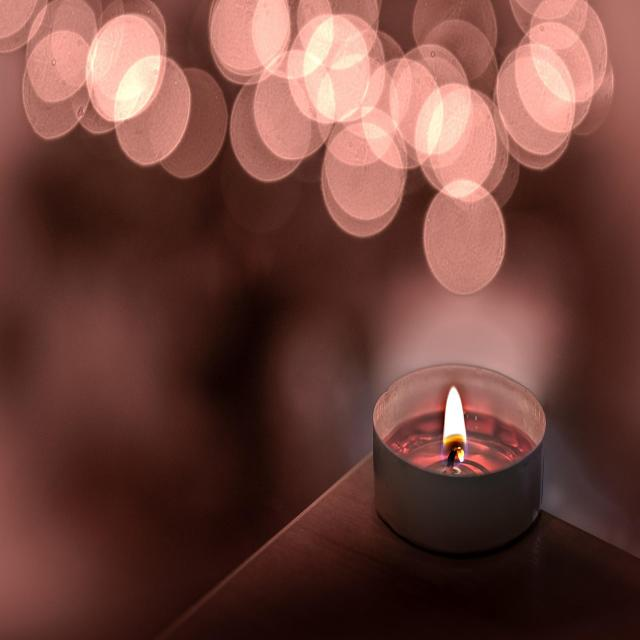Fire_Save: (372, 361, 546, 554), (441, 384, 468, 463)
